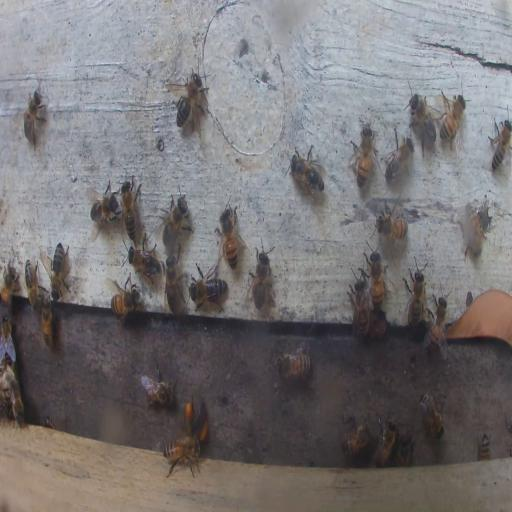nonpollenbee: (172, 72, 209, 133), (406, 86, 438, 154), (139, 361, 176, 411), (88, 177, 120, 233), (348, 124, 376, 188), (290, 146, 325, 196), (403, 256, 427, 328), (438, 88, 466, 148), (22, 86, 48, 150), (164, 434, 202, 477), (188, 264, 226, 306), (248, 242, 271, 309), (160, 191, 189, 244), (424, 293, 449, 354), (383, 130, 413, 179), (417, 390, 446, 439), (349, 273, 370, 340), (220, 203, 241, 269), (489, 114, 512, 172), (465, 201, 489, 256), (128, 242, 162, 280), (49, 240, 71, 298), (340, 418, 371, 459), (376, 202, 408, 240), (110, 280, 141, 319), (5, 370, 26, 426), (164, 255, 183, 314), (120, 177, 139, 235), (375, 419, 397, 467), (278, 352, 311, 379), (1, 260, 18, 310), (370, 250, 383, 309), (24, 260, 39, 310), (40, 296, 53, 347), (1, 314, 14, 360), (396, 436, 414, 465), (478, 432, 492, 462)
pollenbee: (185, 393, 208, 451)
